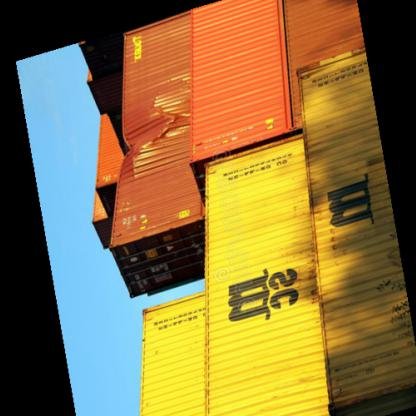Damage: (119, 99, 176, 161)
